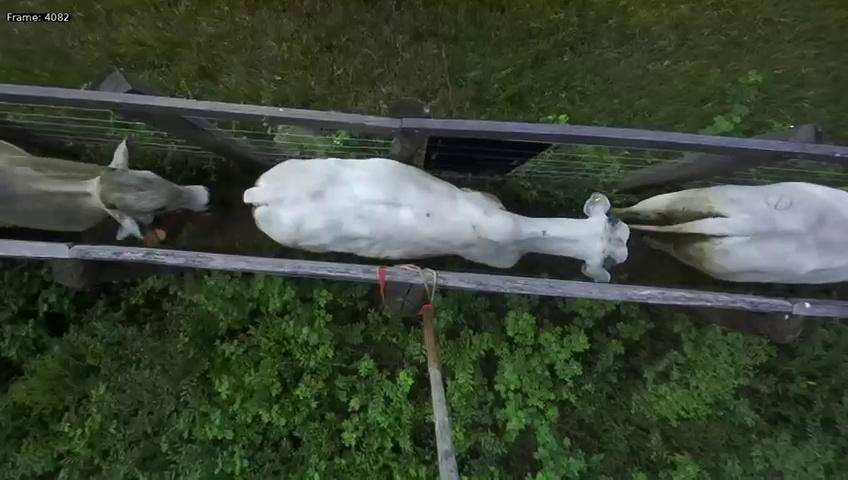cattle: (238, 148, 636, 285), (0, 121, 215, 246)
